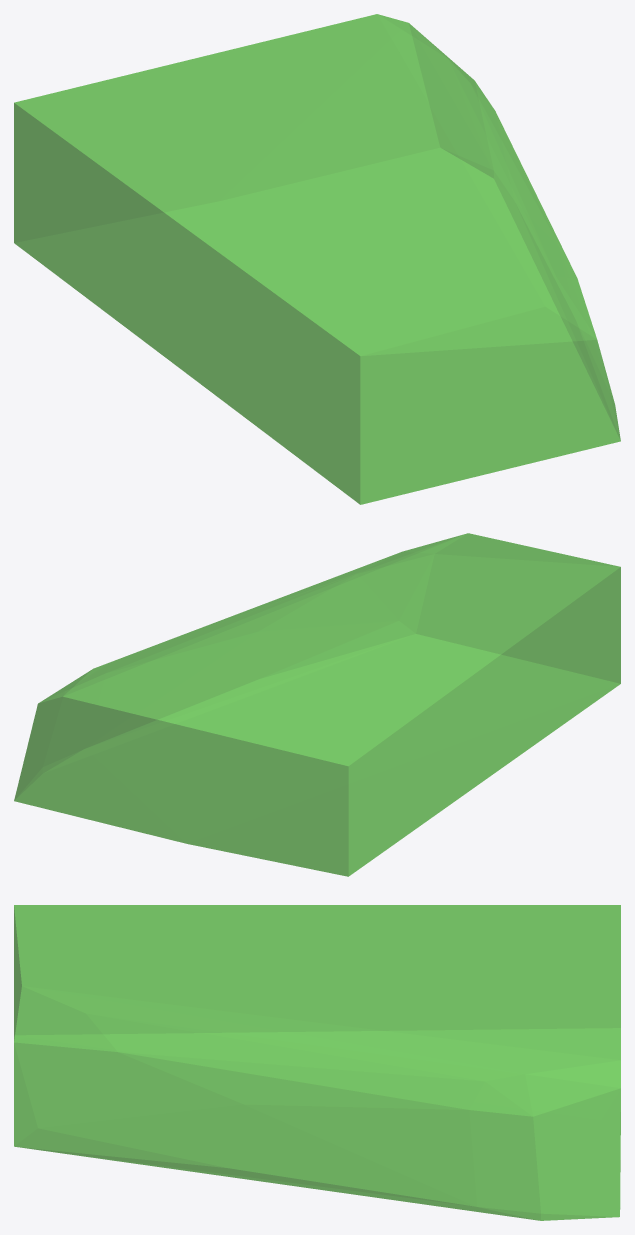
3 renders of one model, top to bottom at view 1: azimuth 30°, elevation 25°; view 2: azimuth 150°, elevation 25°; view 3: azimuth 270°, elevation 25°, orthographic. The views are drawn at different scales.
Parts seen in each view (by area): view 1: Shape_IndexedFaceSet.014_Shape_IndexedFaceSet.14061; view 2: Shape_IndexedFaceSet.014_Shape_IndexedFaceSet.14061; view 3: Shape_IndexedFaceSet.014_Shape_IndexedFaceSet.14061.
Boxes of the visible parts, x1,y1,x2,y2 form: Shape_IndexedFaceSet.014_Shape_IndexedFaceSet.14061: [14, 14, 620, 504]; Shape_IndexedFaceSet.014_Shape_IndexedFaceSet.14061: [14, 533, 620, 876]; Shape_IndexedFaceSet.014_Shape_IndexedFaceSet.14061: [14, 905, 620, 1220].
Bounding box in the file's own units: 0.1527 × 0.05 × 0.211.
